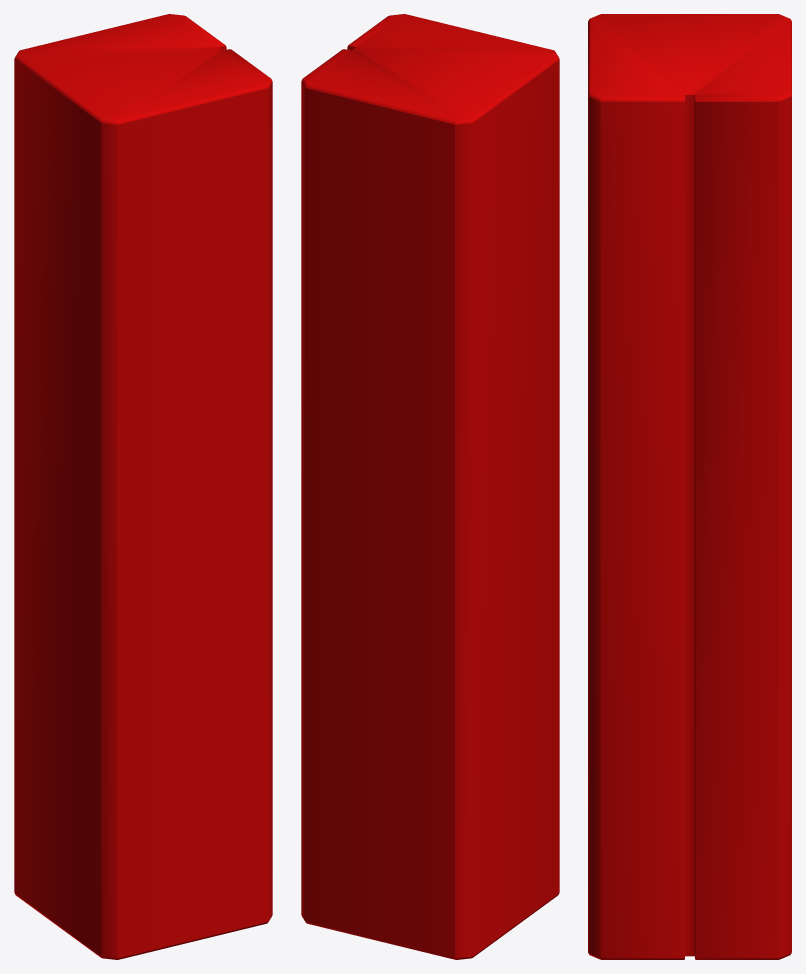
3 renders of one model, left to right at view 1: azimuth 30°, elevation 25°; view 2: azimuth 150°, elevation 25°; view 3: azimuth 270°, elevation 25°, orthographic. The views are drawn at different scales.
Parts seen in each view (by area): view 1: Mesh; view 2: Mesh; view 3: Mesh.
Part boxes in pixels (box(x1,y1,x2,y2)): Mesh: box(14, 14, 272, 959); Mesh: box(301, 14, 559, 959); Mesh: box(588, 14, 791, 959).
Bounding box in the file's own units: 1.5 × 7 × 1.5.
